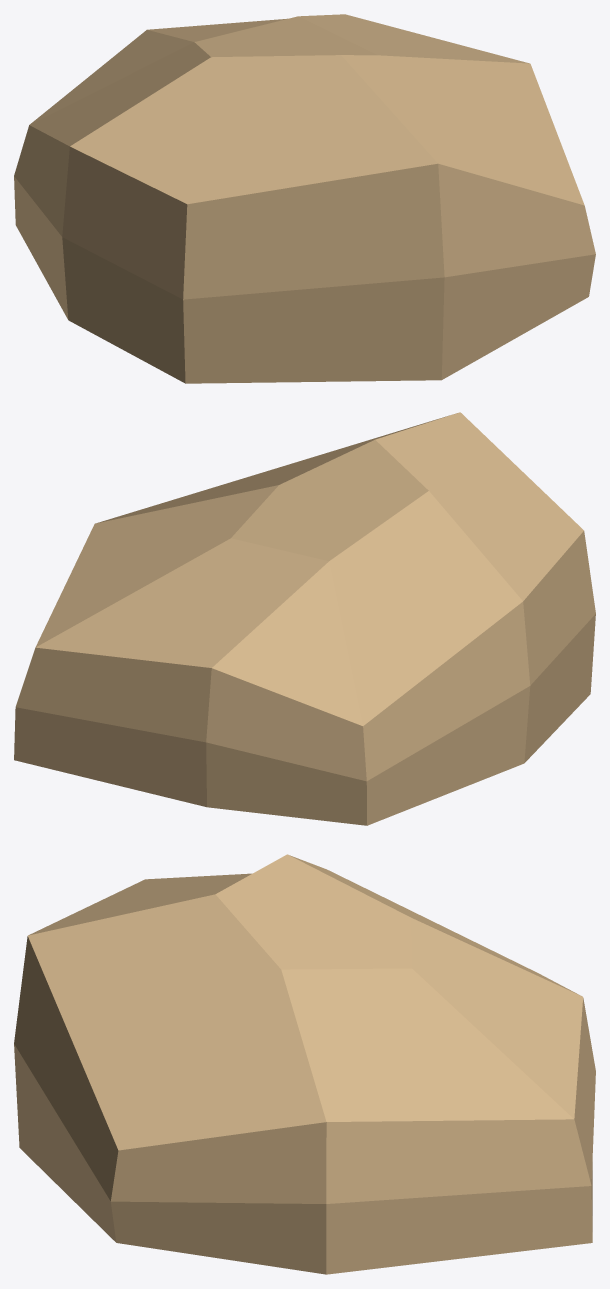
File: SandRock3.fbx
3 renders of one model, top to bottom at view 1: azimuth 30°, elevation 25°; view 2: azimuth 150°, elevation 25°; view 3: azimuth 270°, elevation 25°, orthographic. The views are drawn at different scales.
Visible parts, largest first — view 1: SandRock3; view 2: SandRock3; view 3: SandRock3.
Boxes of the visible parts, x1,y1,x2,y2 form: SandRock3: (14,14,595,383); SandRock3: (14,412,595,825); SandRock3: (14,854,595,1274).
Bounding box in the file's own units: 79.34 × 39.57 × 82.68.
